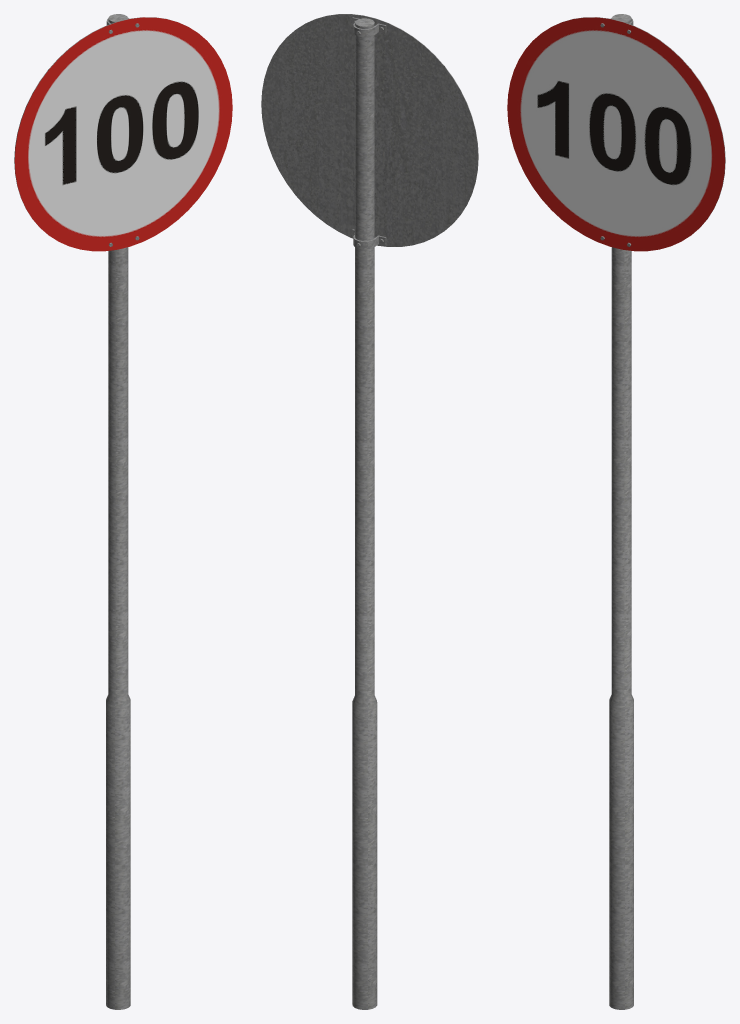
3 views of the same model, side by side, from view 1: azimuth 30°, elevation 25°; view 2: azimuth 150°, elevation 25°; view 3: azimuth 330°, elevation 25° (orthographic).
Parts seen in each view (by area): view 1: traffic_signs-01.001; view 2: traffic_signs-01.001; view 3: traffic_signs-01.001.
Boxes of the visible parts, x1,y1,x2,y2 form: traffic_signs-01.001: (14,14,232,1009); traffic_signs-01.001: (261,14,478,1009); traffic_signs-01.001: (507,14,725,1009).
Bounding box in the file's own units: 1.2 × 5.2 × 0.1237.
